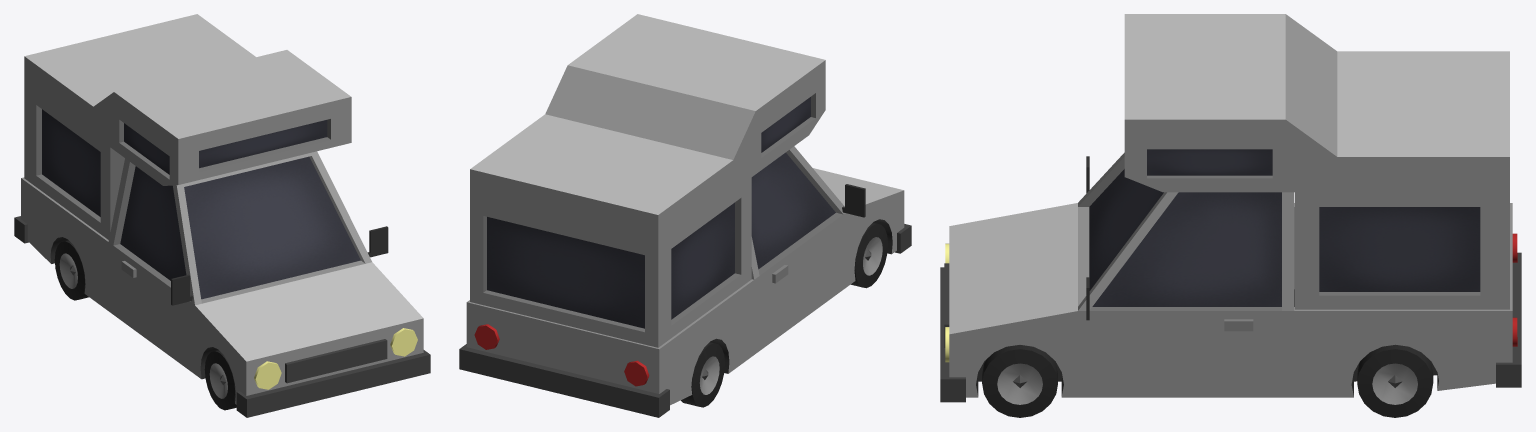
Rendered from Ban_A2.fbx.
3 renders of one model, left to right at view 1: azimuth 30°, elevation 25°; view 2: azimuth 150°, elevation 25°; view 3: azimuth 270°, elevation 25°, orthographic. The views are drawn at different scales.
Visible parts, largest first — view 1: Ban_Body, Ban_RF, Ban_RR; view 2: Ban_Body, Ban_RR, Ban_RF; view 3: Ban_Body, Ban_LR, Ban_LF.
Boxes of the visible parts, bbox=[...] form: Ban_Body: bbox=[14, 14, 430, 417]; Ban_RF: bbox=[204, 350, 236, 410]; Ban_RR: bbox=[54, 240, 88, 300]; Ban_Body: bbox=[459, 14, 911, 417]; Ban_RR: bbox=[681, 342, 724, 407]; Ban_RF: bbox=[851, 222, 887, 288]; Ban_Body: bbox=[940, 14, 1521, 402]; Ban_LR: bbox=[1357, 344, 1433, 417]; Ban_LF: bbox=[982, 345, 1057, 417].
Bounding box in the file's own units: 207 × 219 × 387.
1 material, 1 textured.
